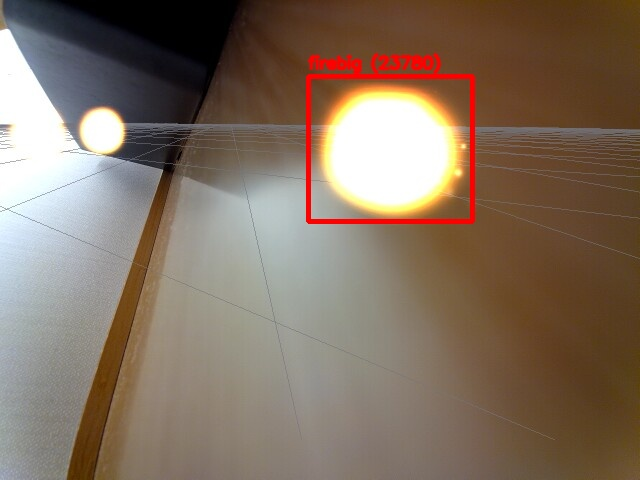firebig: (308, 76, 472, 221)
